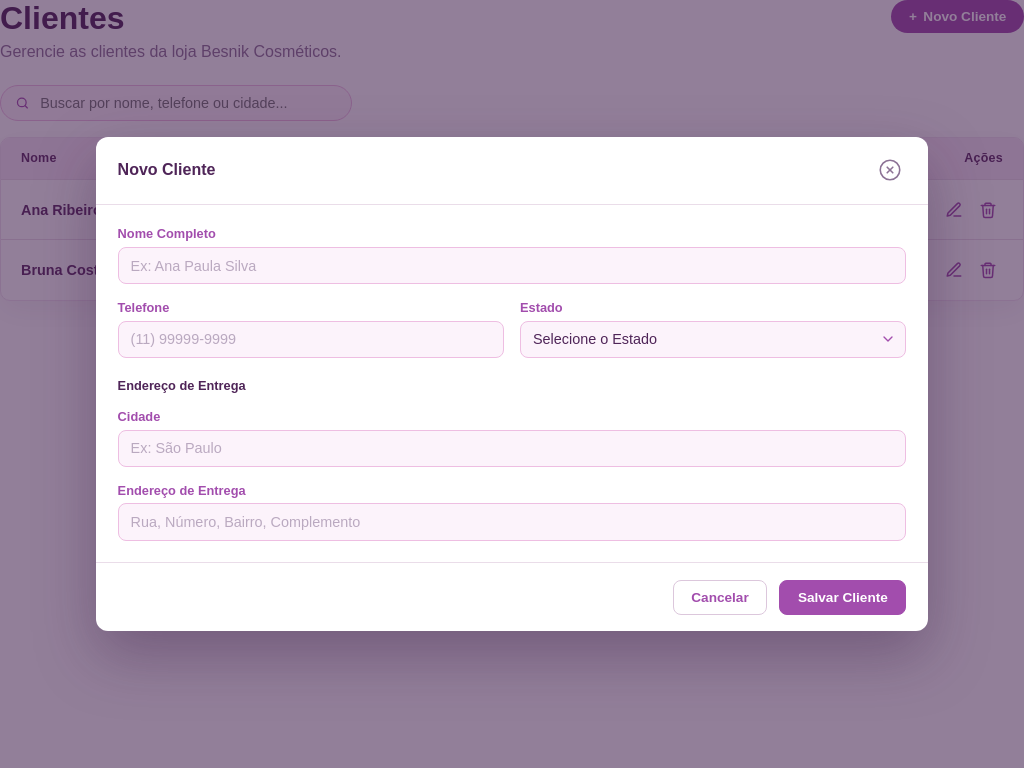
it: ClientesComponent › formata telefone no padrao de celular brasileiro
Type "11999998888" into the field with id "campo-telefone" at (311, 339), box top-left (118, 321), bottom-right (504, 358)
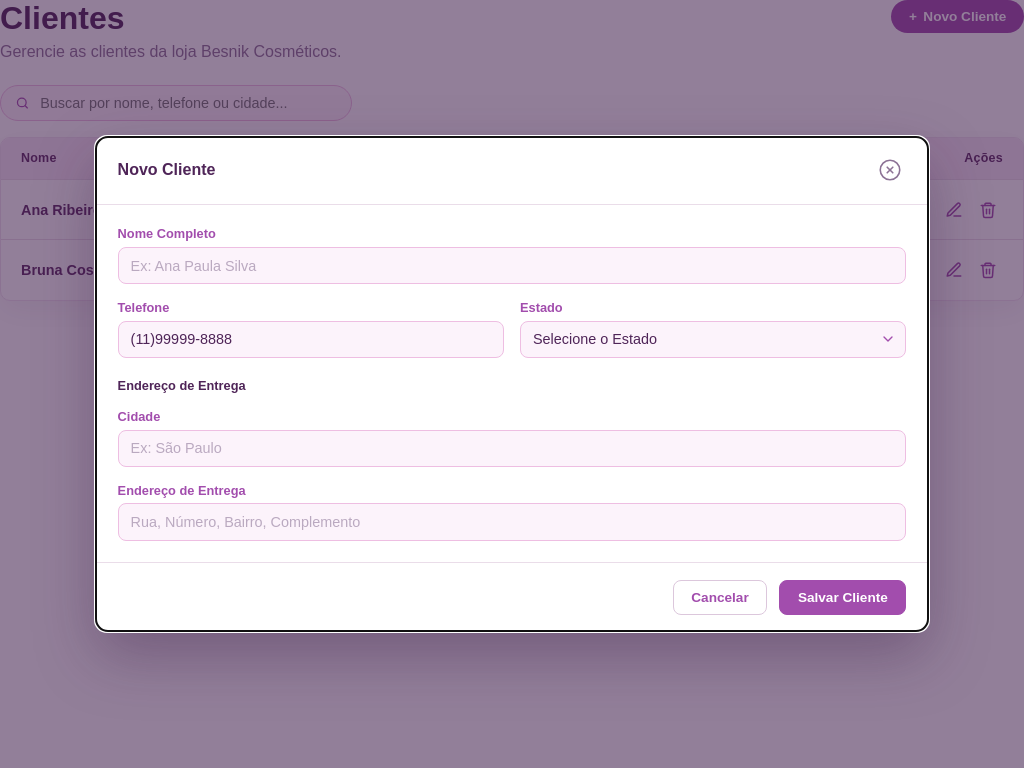
Check: the field with id "campo-telefone" holds "(11)99999-8888", box top-left (118, 321), bottom-right (504, 358)
